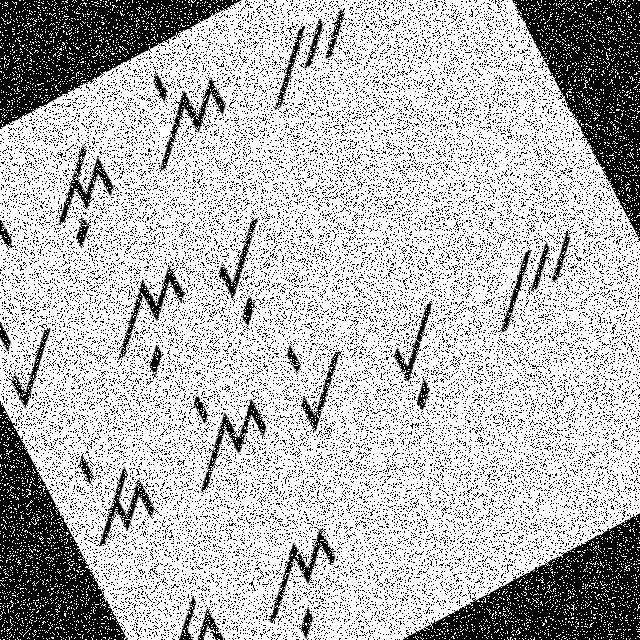de: (50, 428, 172, 563), (0, 163, 29, 291)
du: (15, 132, 142, 265), (132, 575, 254, 639)
ne: (103, 44, 248, 180), (152, 365, 287, 498)
nu: (230, 509, 376, 639), (86, 256, 216, 388)
pe: (260, 314, 374, 438), (0, 294, 85, 412)
pu: (352, 284, 483, 424), (189, 203, 307, 332)
